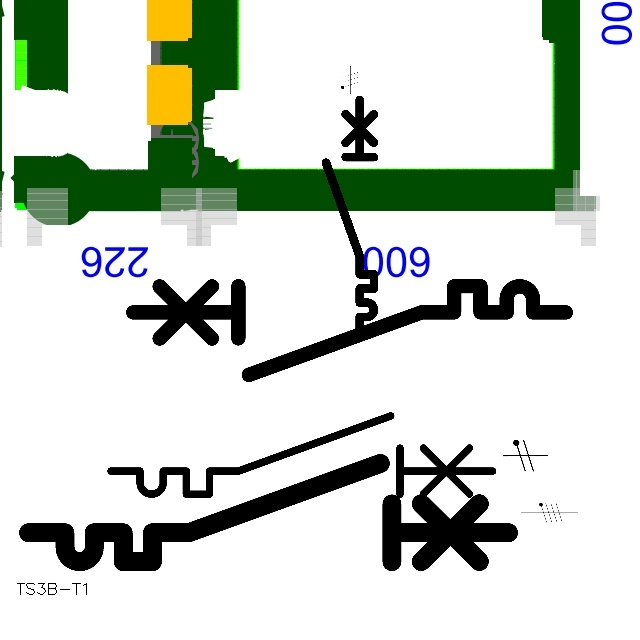interruptor_termomagnetico: (16, 451, 520, 574), (122, 275, 577, 386), (101, 406, 503, 504), (320, 93, 380, 340)
